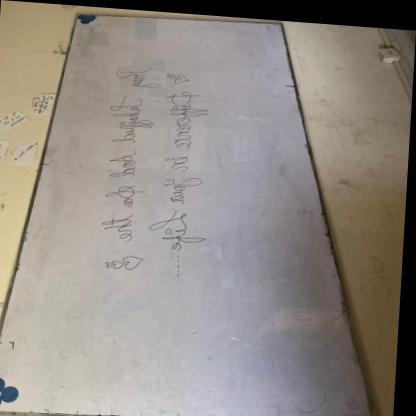Handwritten text: (145, 83, 223, 253), (91, 57, 158, 242)
Whiteboard: (0, 12, 375, 416)
